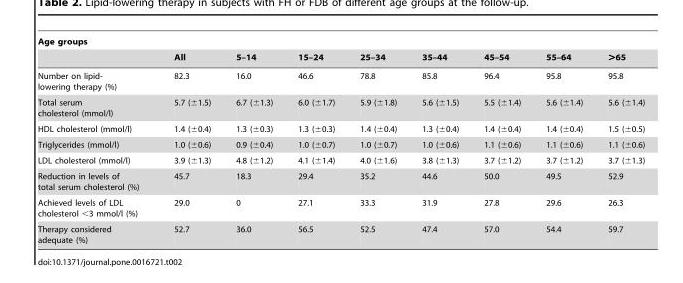table: (36, 36, 644, 243)
table column: (36, 36, 155, 243), (155, 36, 222, 243), (222, 36, 284, 243), (284, 36, 346, 243), (346, 36, 408, 243), (408, 36, 470, 243), (470, 36, 532, 243), (532, 36, 594, 243), (594, 36, 644, 243)
table column header: (36, 36, 644, 66)
table row: (36, 66, 644, 94), (36, 194, 644, 221), (36, 94, 644, 120), (36, 168, 644, 194), (36, 221, 644, 243), (36, 49, 644, 66), (36, 120, 644, 136), (36, 136, 644, 152), (36, 152, 644, 168), (36, 36, 644, 49)
table spanning cell: (36, 36, 155, 66), (155, 36, 222, 66), (222, 36, 284, 66), (284, 36, 346, 66), (346, 36, 408, 66), (408, 36, 470, 66), (470, 36, 532, 66), (532, 36, 594, 66), (594, 36, 644, 66)
